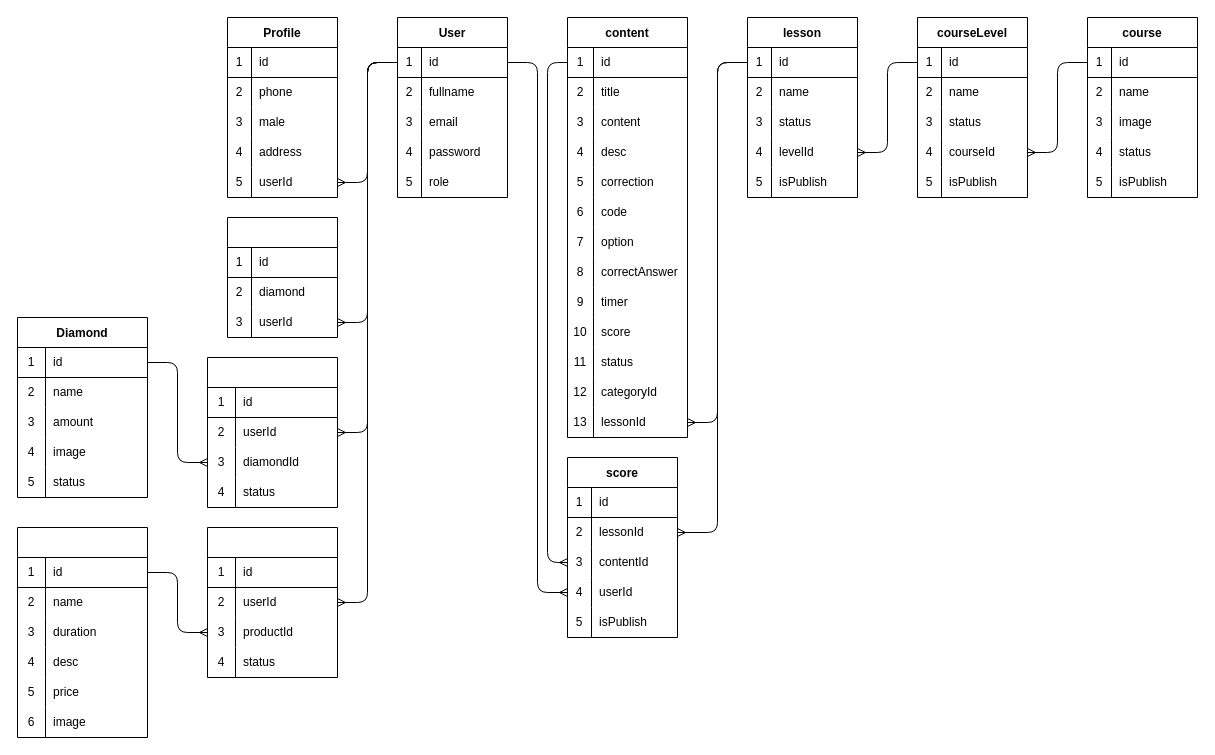
Some shapes in this 1215 by 755 pixel diagram are drawn without their labels. Each missing label, with the box of its shape:
product: (16, 526, 148, 738)
transactionDiamond: (206, 356, 338, 508)
transactionProduct: (206, 526, 338, 678)
Wallet: (226, 216, 338, 338)
